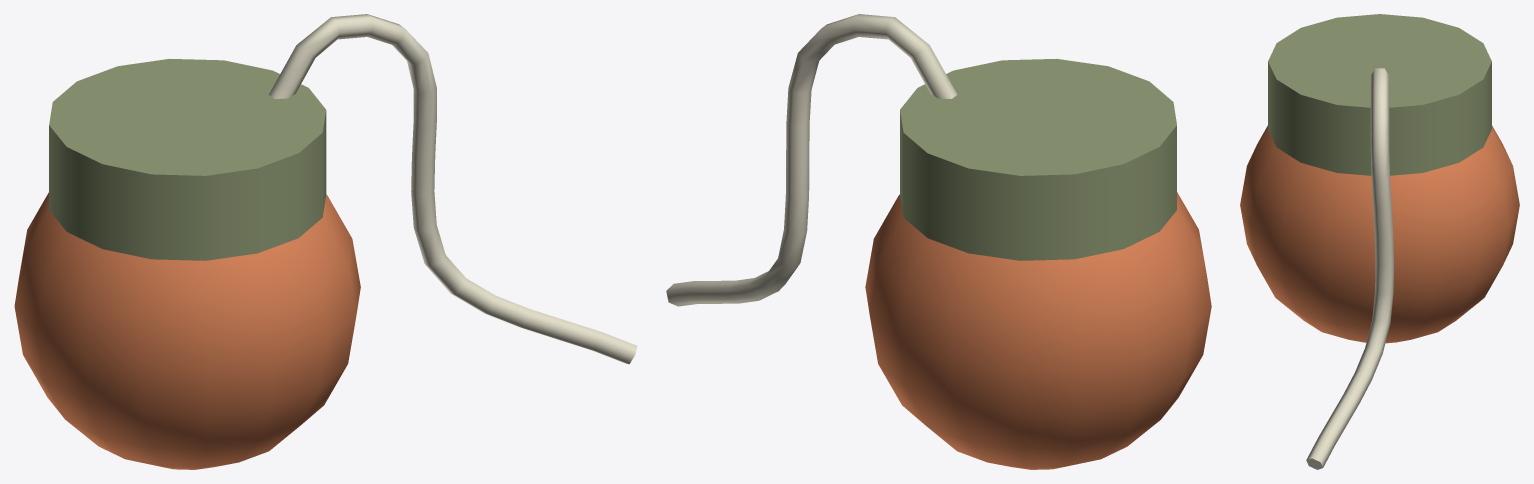
Rendered from flooded-and-coastal-survival-throwline-bag-857914b4__20071.glb.
3 renders of one model, left to right at view 1: azimuth 30°, elevation 25°; view 2: azimuth 150°, elevation 25°; view 3: azimuth 270°, elevation 25°, orthographic. The views are drawn at different scales.
Parts seen in each view (by area): view 1: throwline-bag; view 2: throwline-bag; view 3: throwline-bag.
Part boxes in pixels (box(x1,y1,x2,y2)): throwline-bag: box(14, 14, 637, 469); throwline-bag: box(666, 14, 1211, 469); throwline-bag: box(1240, 14, 1519, 469).
Bounding box in the file's own units: 0.556 × 0.3791 × 0.3.
